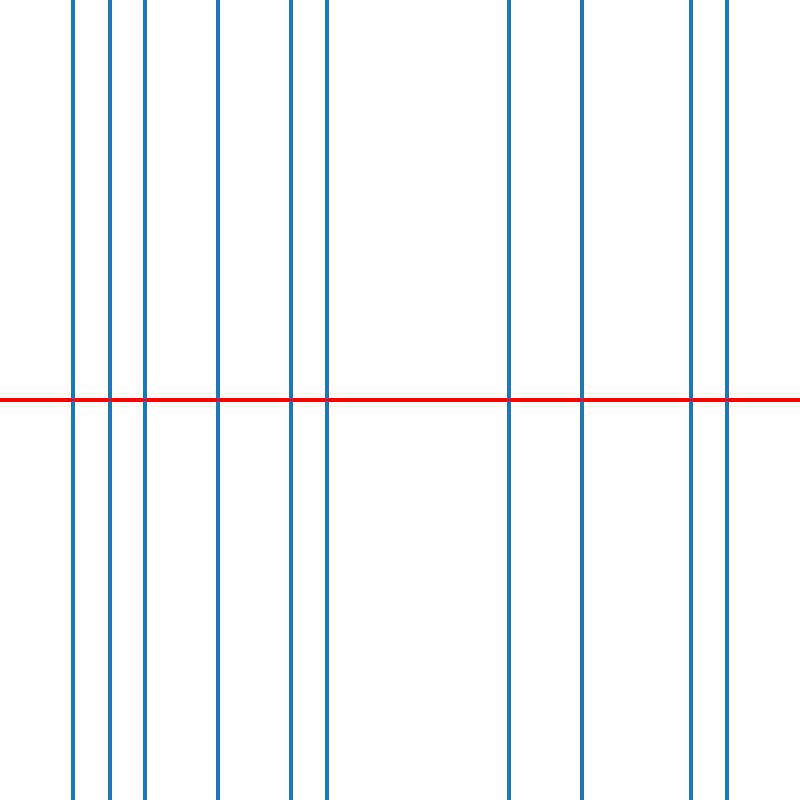root: (141, 396, 149, 404), (105, 396, 112, 404), (723, 396, 730, 404), (505, 396, 512, 404), (578, 396, 585, 404), (687, 396, 694, 404), (287, 396, 294, 404), (214, 396, 221, 404), (69, 396, 76, 404), (323, 396, 330, 404)
